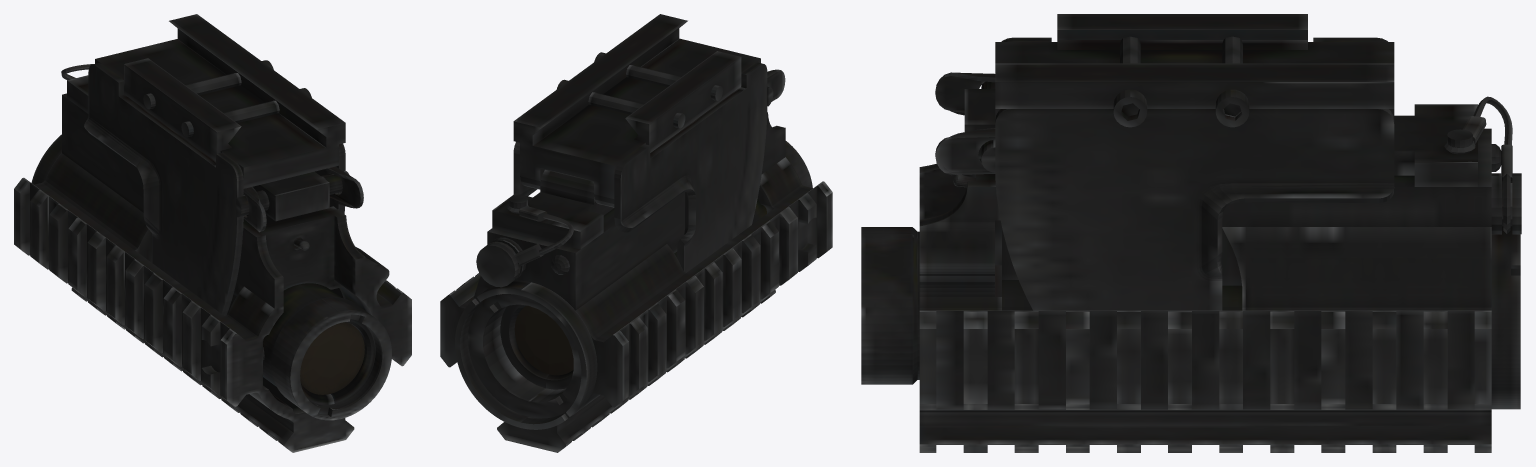
3 renders of one model, left to right at view 1: azimuth 30°, elevation 25°; view 2: azimuth 150°, elevation 25°; view 3: azimuth 270°, elevation 25°, orthographic. The views are drawn at different scales.
Parts seen in each view (by area): view 1: TW_6284bd5f95250a29bc628a30_PZ_Import; view 2: TW_6284bd5f95250a29bc628a30_PZ_Import; view 3: TW_6284bd5f95250a29bc628a30_PZ_Import.
Boxes of the visible parts, box(x1,y1,x2,y2) form: TW_6284bd5f95250a29bc628a30_PZ_Import: box(14, 14, 411, 452); TW_6284bd5f95250a29bc628a30_PZ_Import: box(440, 14, 832, 452); TW_6284bd5f95250a29bc628a30_PZ_Import: box(861, 14, 1521, 452).
Bounding box in the file's own units: 0.0322 × 0.0742 × 0.0482.
1 material, 1 textured.
